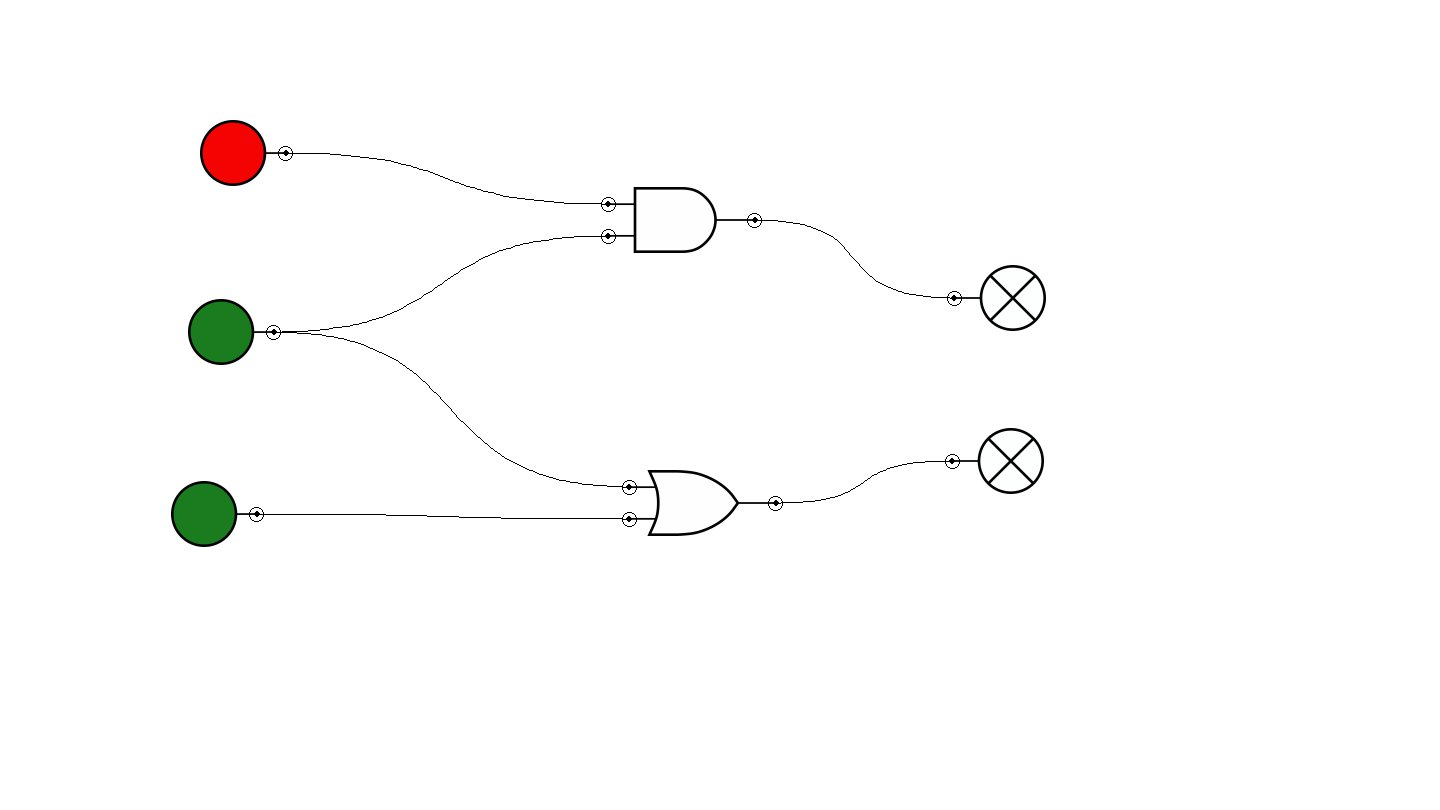and: (601, 187, 762, 253)
bulb: (947, 265, 1046, 331), (945, 428, 1044, 494)
or: (622, 470, 783, 536)
switch_False: (200, 120, 293, 186)
switch_True: (188, 299, 281, 365), (171, 481, 264, 547)
